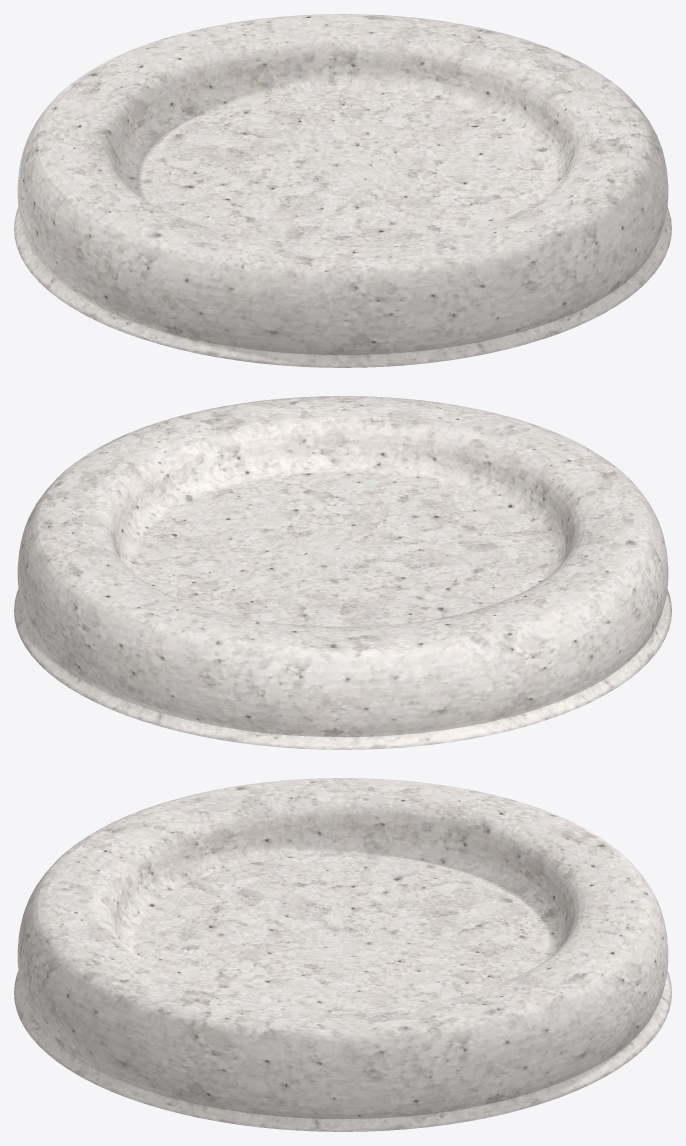
The model's file is tzaar-tott-white.glb.
3 views of the same model, one above another, from view 1: azimuth 30°, elevation 25°; view 2: azimuth 150°, elevation 25°; view 3: azimuth 270°, elevation 25° (orthographic).
Parts seen in each view (by area): view 1: tzaar-tott-white; view 2: tzaar-tott-white; view 3: tzaar-tott-white.
Part boxes in pixels (bbox=[...]): tzaar-tott-white: bbox=[14, 14, 671, 367]; tzaar-tott-white: bbox=[14, 396, 671, 749]; tzaar-tott-white: bbox=[14, 778, 671, 1131].
Bounding box in the file's own units: 0.0283 × 0.00435 × 0.0283.
Materials: 1 (1 with a texture image).
